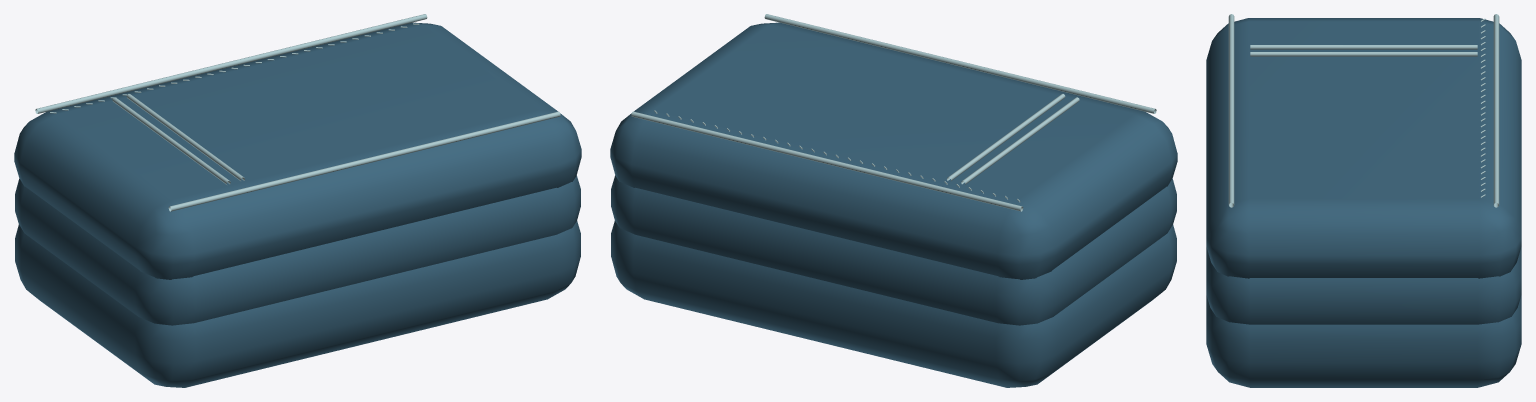
File: blanket.glb
3 views of the same model, side by side, from view 1: azimuth 30°, elevation 25°; view 2: azimuth 150°, elevation 25°; view 3: azimuth 270°, elevation 25° (orthographic).
Parts seen in each view (by area): view 1: Service blanket; view 2: Service blanket; view 3: Service blanket.
Boxes of the visible parts, x1,y1,x2,y2 form: Service blanket: (14, 14, 581, 387); Service blanket: (610, 14, 1177, 387); Service blanket: (1206, 14, 1521, 387).
Bounding box in the file's own units: 0.4 × 0.166 × 0.25.
